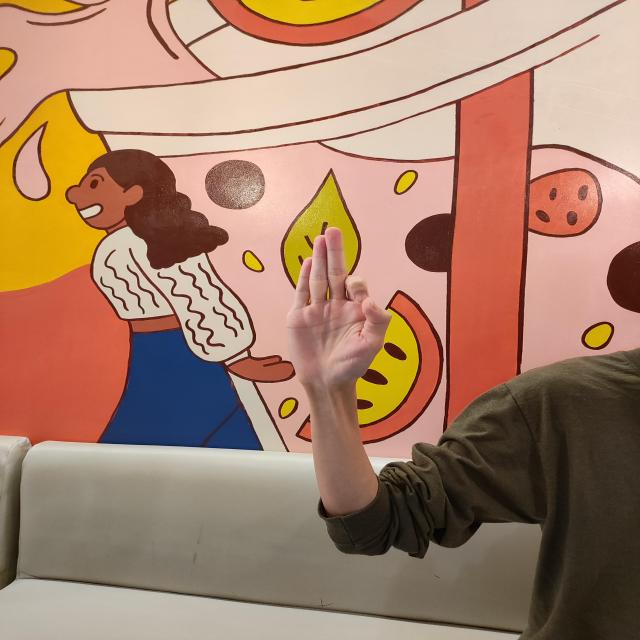F: (284, 225, 394, 394)
